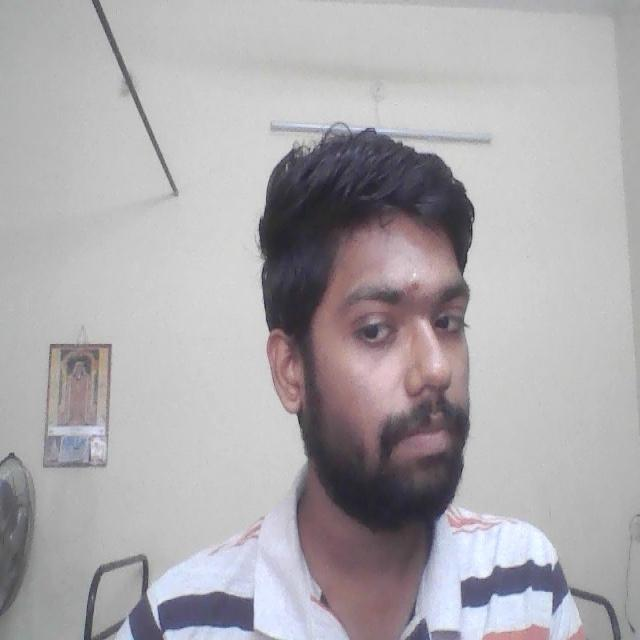Focused: (285, 226, 479, 499)
